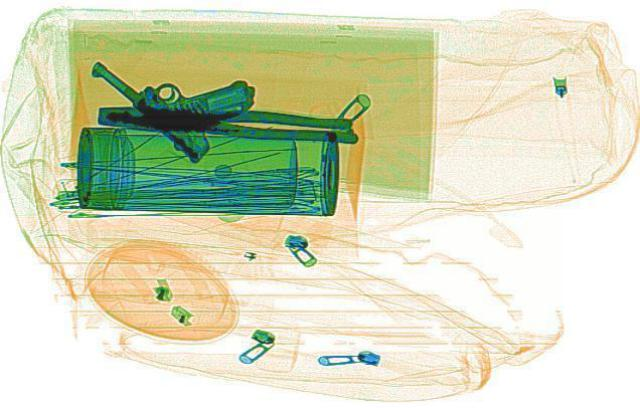Gun: (78, 26, 294, 163)
Pliers: (92, 99, 358, 142)
